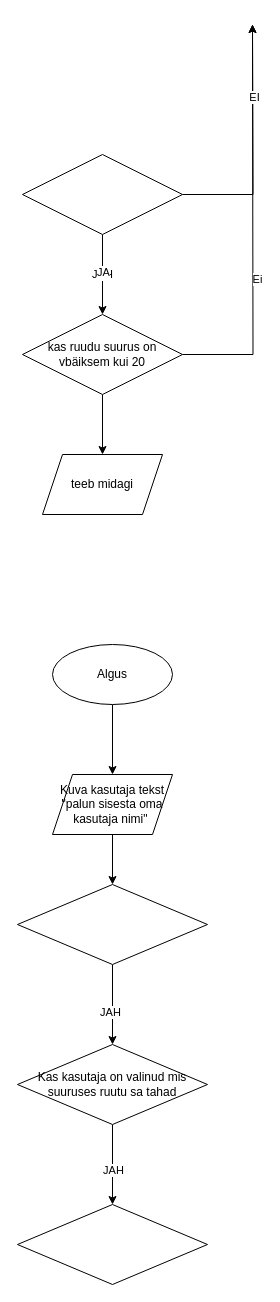
This 280x1302 diagram has some shape labels left out. Each missing label, with the centre of its shape:
"Kas kasutaja on sisestanud oma nime" goes at point 112,924.
"Kas realaja kujund on olemas?" goes at point 112,1244.
"kas ruudu suurus on vbäiksem kui 0" goes at point 102,194.
